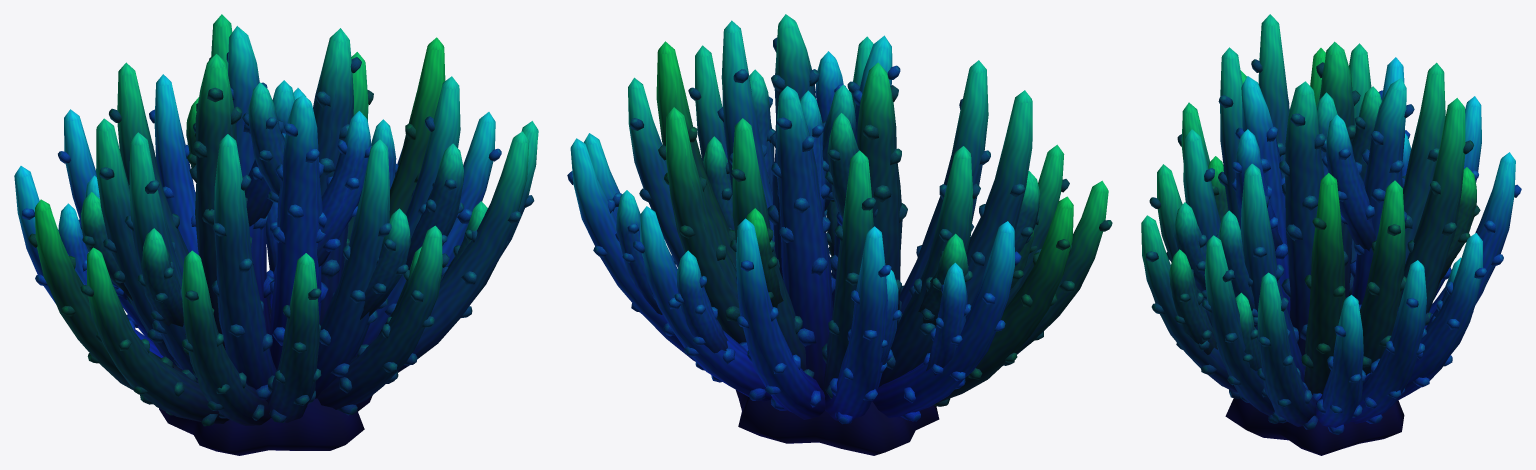
File: reef-acropora-violet-millepora.glb
3 views of the same model, side by side, from view 1: azimuth 30°, elevation 25°; view 2: azimuth 150°, elevation 25°; view 3: azimuth 270°, elevation 25° (orthographic). The views are drawn at different scales.
Parts seen in each view (by area): view 1: Reef_Acropora_Violet_Millepora; view 2: Reef_Acropora_Violet_Millepora; view 3: Reef_Acropora_Violet_Millepora.
Boxes of the visible parts, bbox=[...] form: Reef_Acropora_Violet_Millepora: bbox=[14, 14, 538, 455]; Reef_Acropora_Violet_Millepora: bbox=[567, 14, 1112, 455]; Reef_Acropora_Violet_Millepora: bbox=[1141, 14, 1521, 455].
Bounding box in the file's own units: 0.187 × 0.1459 × 0.1379.
Materials: 1 (1 with a texture image).
